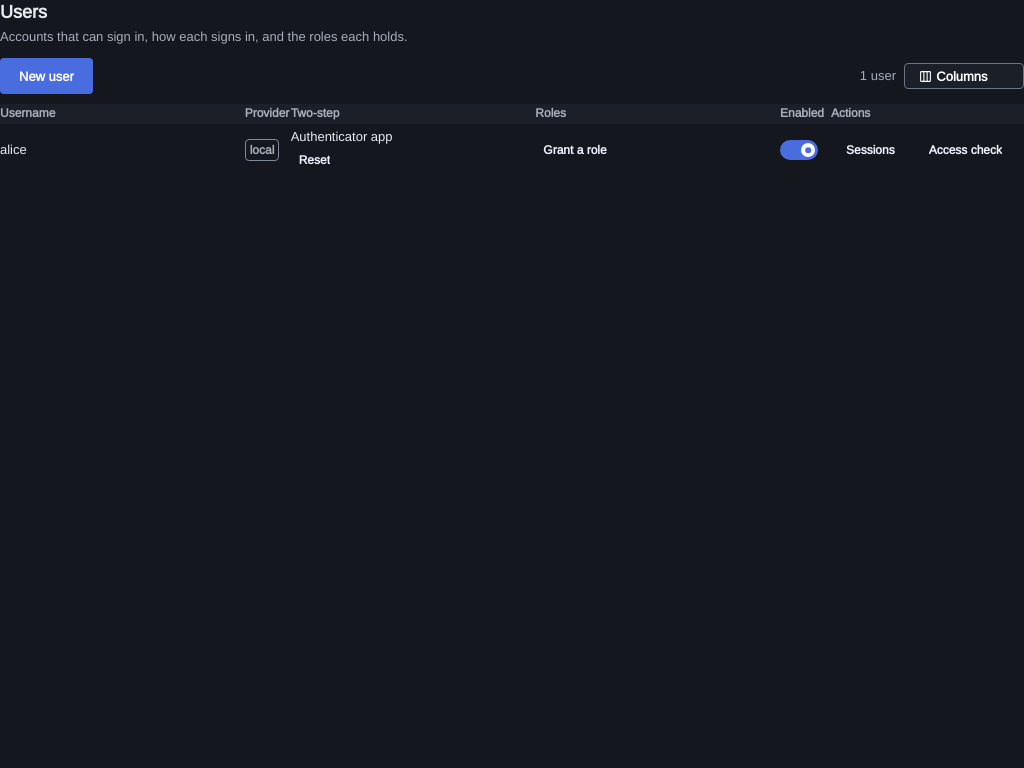
UsersPanel two-step verification › arms the reset only when the username is typed, states its reach, and announces the result
This screenshot has width=1024, height=768.
Step 1. Click the button with aria-label "Reset two-step verification of alice" → (314, 160), box [291, 148, 338, 172]
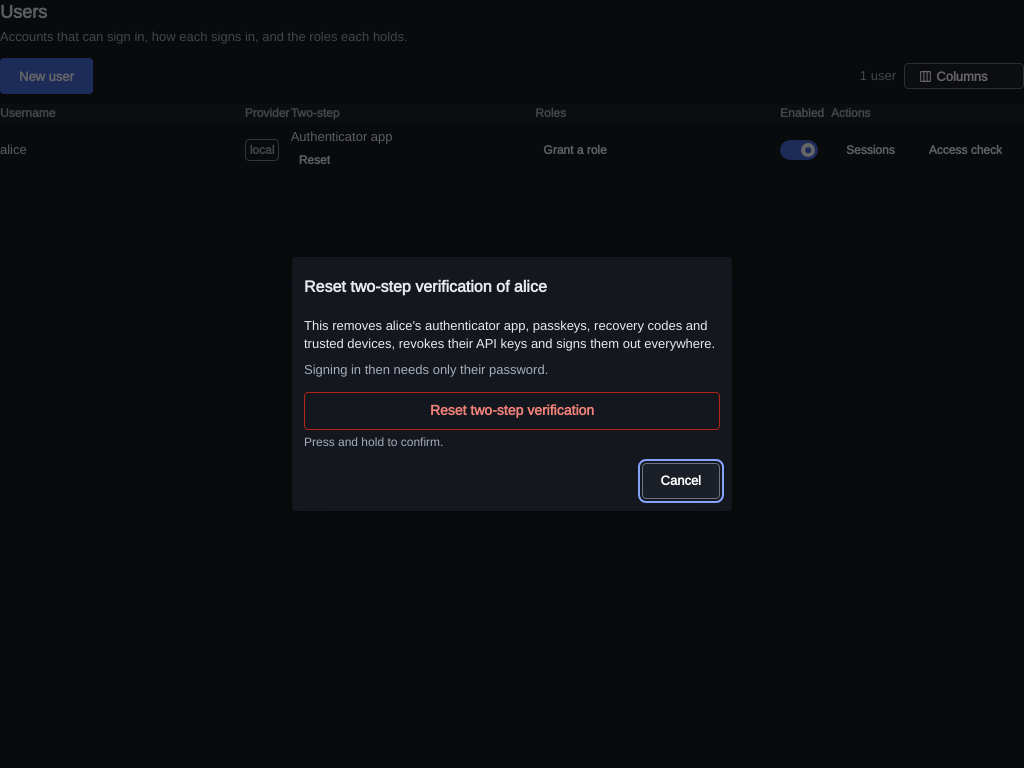
Now the dialog "Reset two-step verification of alice" shows "removes alice's authenticator app, passkeys, recovery codes and trusted devices, revokes their API keys and signs them out everywhere", box [292, 257, 732, 511]
Now the button "Reset two-step verification" is enabled
Step 2. Press the mouse on the button "Reset two-step verification" → (512, 411), box [304, 392, 720, 430]
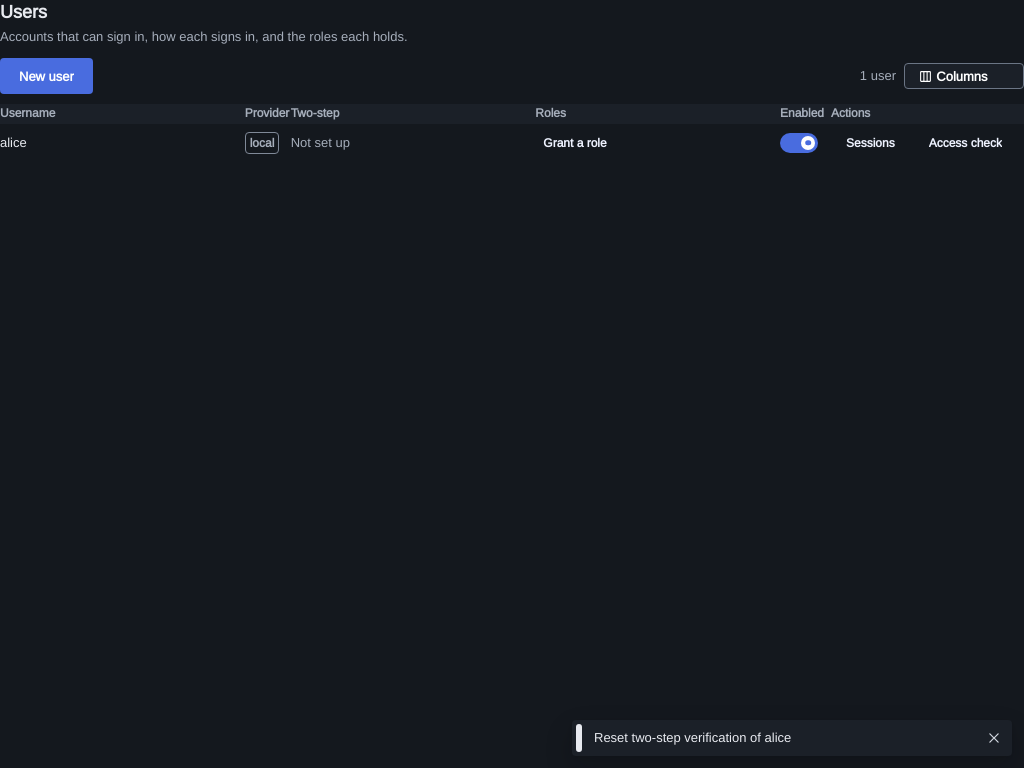
Now the message reads "Reset two-step verification of alice", box [594, 729, 791, 746]
Now the dialog is gone
Now the text "Not set up" is shown, box [291, 134, 350, 152]
